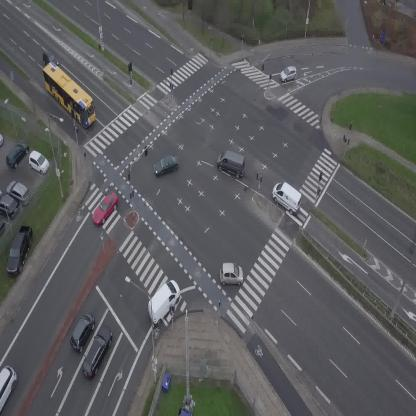bus: (34, 59, 105, 130)
car: (77, 324, 118, 382), (65, 310, 100, 354), (88, 190, 123, 228), (0, 365, 16, 415), (151, 153, 181, 177), (220, 262, 244, 286), (279, 65, 298, 83), (42, 51, 59, 68)
lorry: (140, 276, 187, 327), (267, 178, 308, 217), (213, 146, 251, 180)
